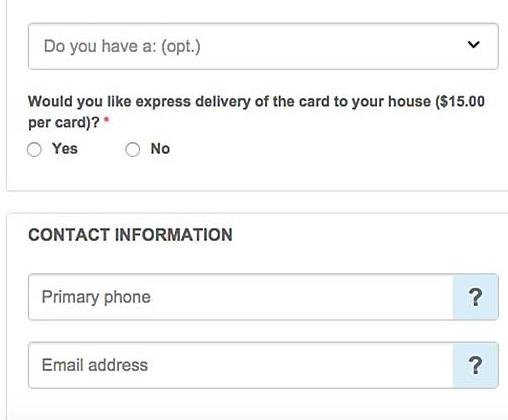field: (26, 340, 502, 390), (26, 272, 500, 321), (26, 22, 501, 70)
radio: (24, 139, 51, 163), (126, 140, 148, 163)
radio_with_label: (18, 135, 76, 166), (122, 135, 172, 166)
